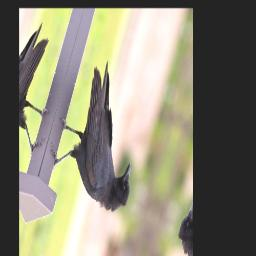Crow: (44, 45, 158, 222)
